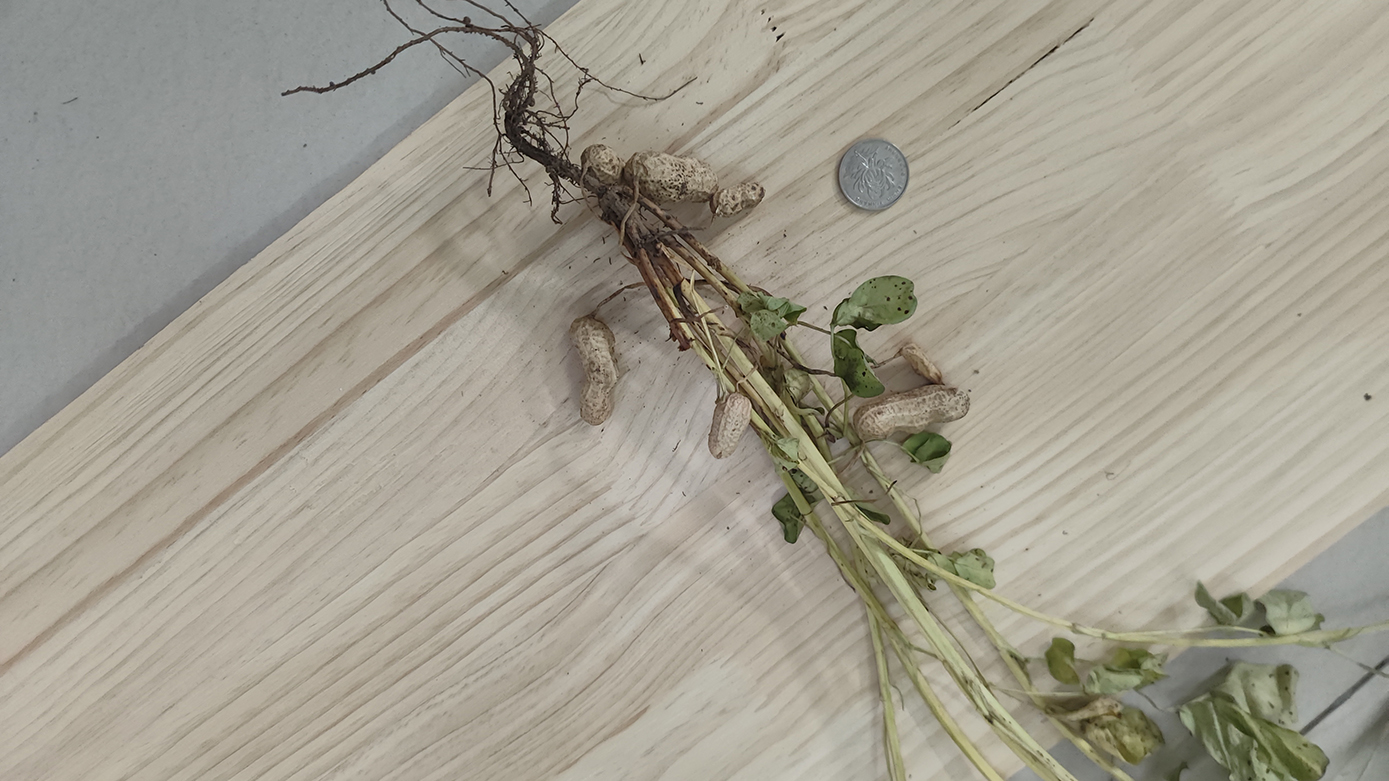h: (851, 381, 971, 443), (571, 317, 621, 425), (625, 152, 718, 205), (707, 390, 752, 459), (711, 181, 764, 217), (581, 144, 625, 186)
l: (898, 343, 943, 387)
